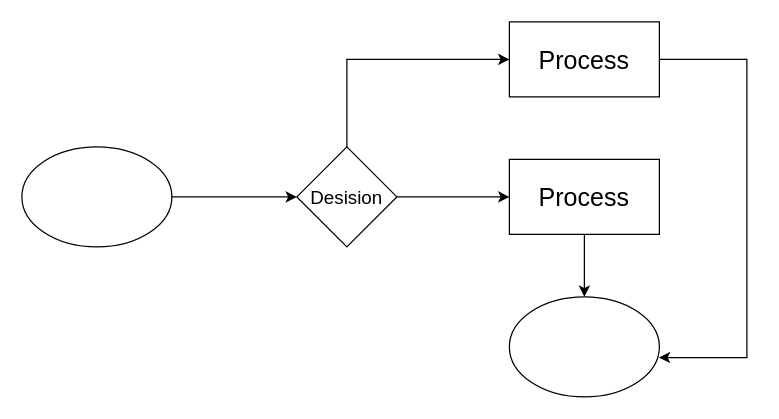
This 779x419 diagram has some shape labels left out. Here are the shapes that lost their labels. From the top down, the centre of each, then its label:
(96,196): Start
(583,346): End
